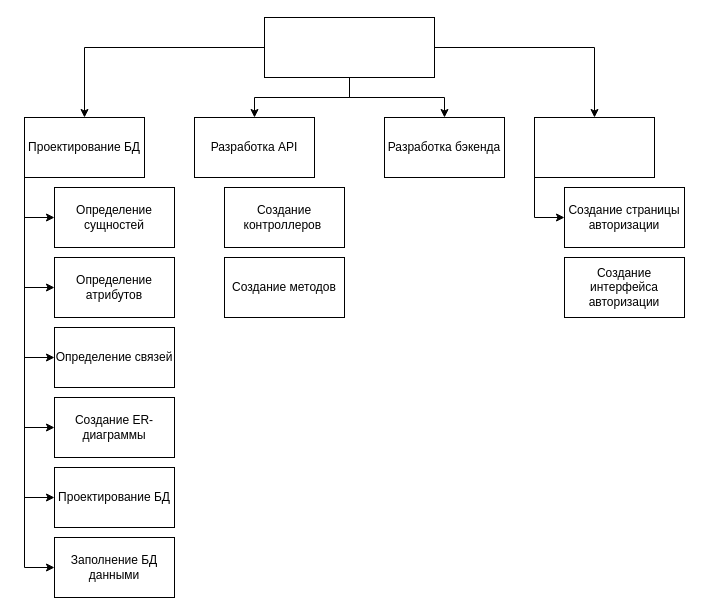
The diagram is 702 pixels wide and 615 high, and some of its shapes have lost their labels. The centre of each missing label's shape, as x and y in pixels:
Подсистема учета работы отдела телемаркетинга: point 349,47
Разработка фронтенда: point 594,147
